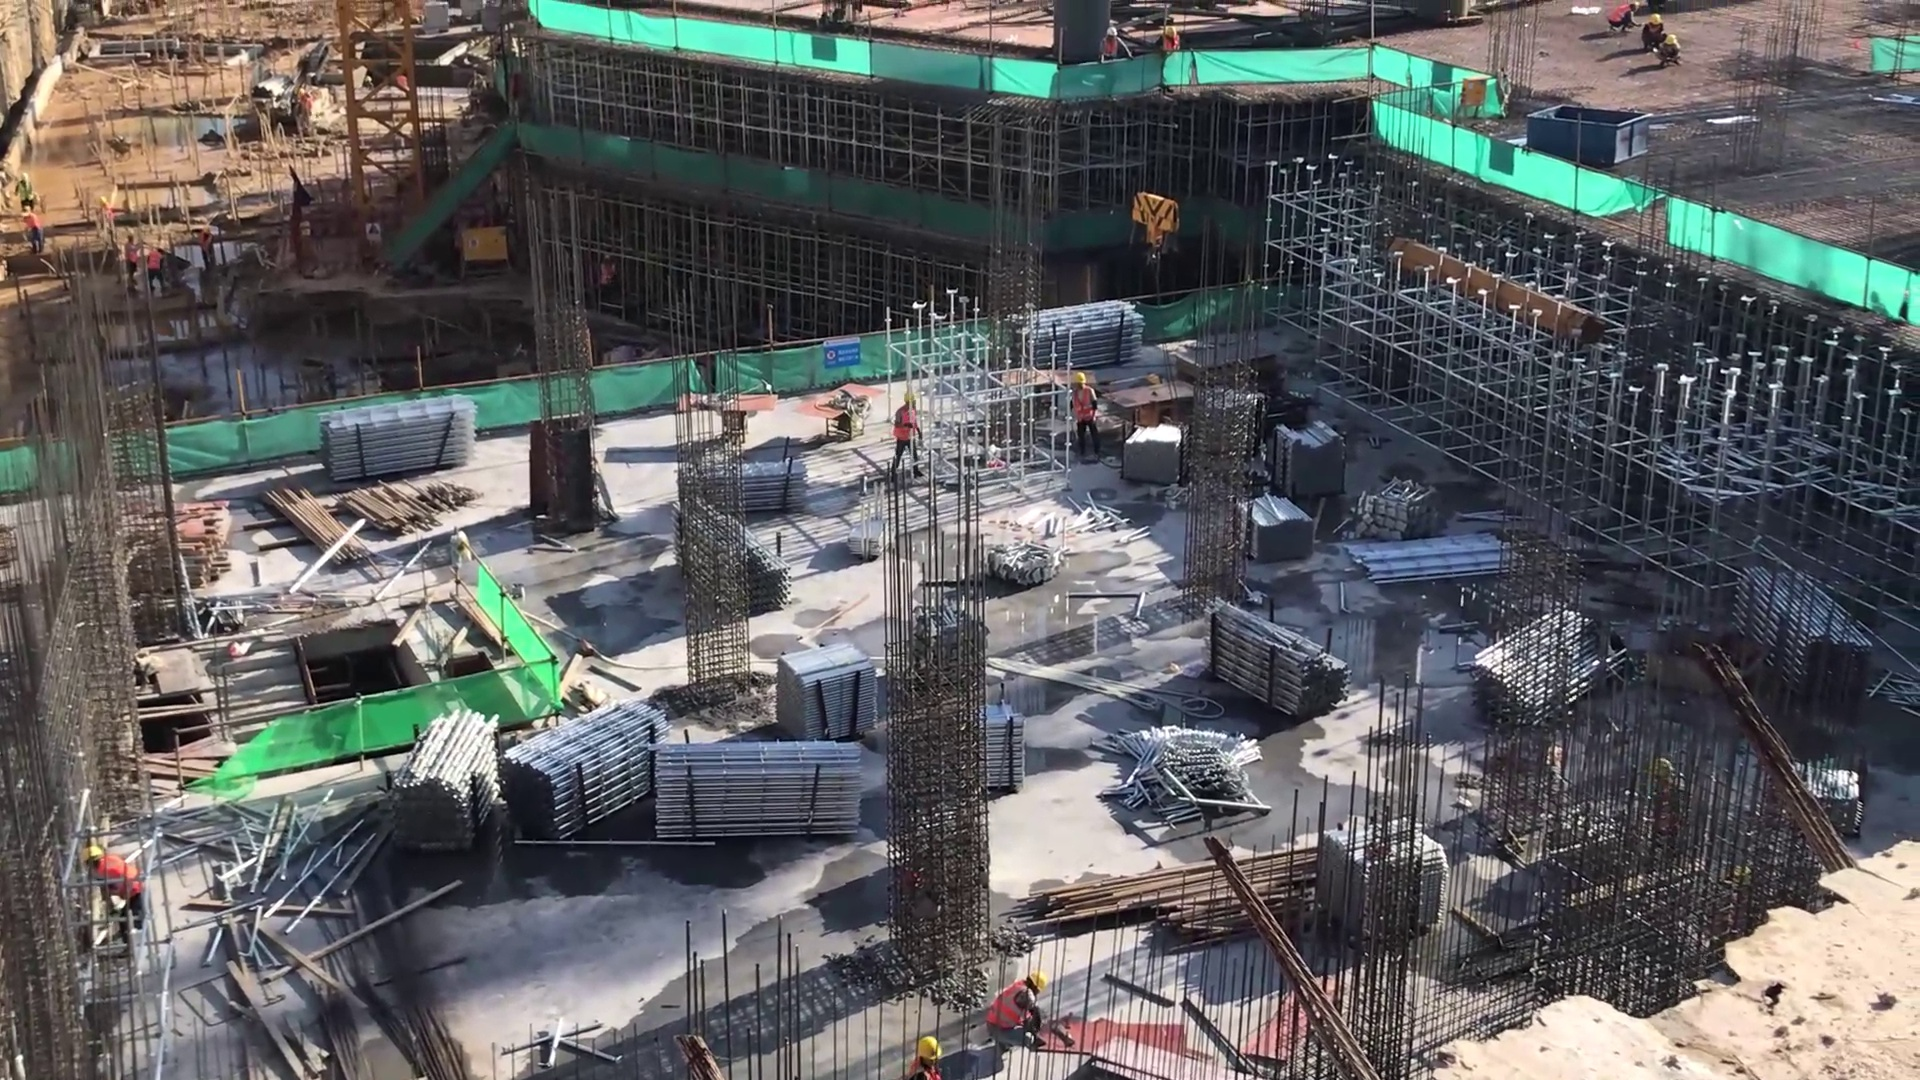cutter: (786, 377, 886, 448), (681, 382, 785, 444)
ebox: (457, 217, 515, 293)
helmet: (914, 1032, 944, 1063), (78, 843, 107, 869), (1028, 971, 1046, 993), (899, 388, 919, 405), (1069, 370, 1088, 386)
hook: (1129, 181, 1191, 274)
hopper: (1524, 95, 1660, 174)
person: (73, 839, 152, 969), (980, 970, 1056, 1056), (883, 389, 932, 485), (1064, 366, 1108, 466), (894, 1030, 947, 1080)
scaffold: (646, 721, 884, 859), (503, 683, 674, 862), (386, 688, 515, 869), (1197, 585, 1356, 723), (307, 388, 488, 500), (762, 628, 881, 757), (1019, 287, 1154, 378), (1236, 489, 1318, 573), (1271, 419, 1351, 503), (1121, 417, 1192, 489), (746, 453, 814, 513)
vest: (984, 977, 1028, 1029), (102, 850, 141, 900), (1067, 387, 1096, 424), (892, 406, 920, 441), (904, 1064, 943, 1080)
